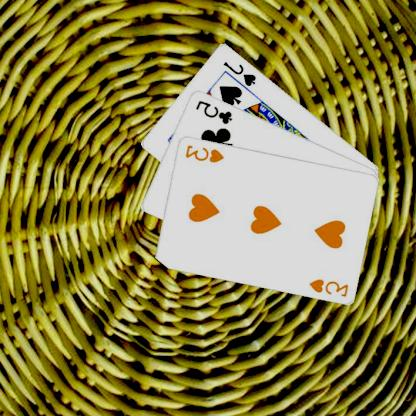3H: (308, 275, 351, 298), (184, 142, 227, 164)
5C: (195, 97, 235, 125)
JS: (222, 58, 259, 88)
